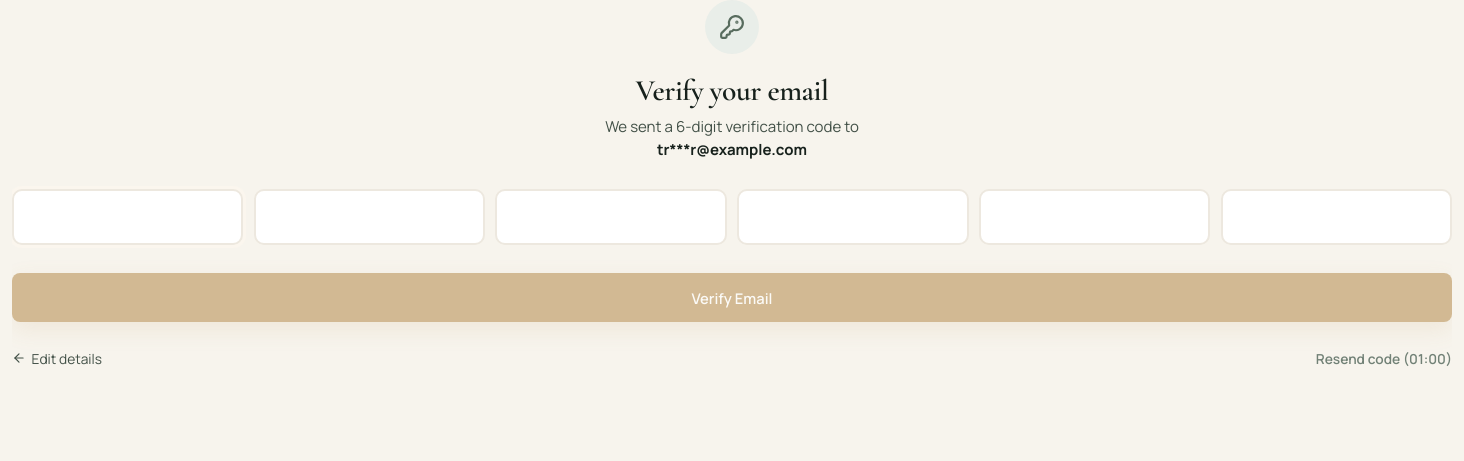
OtpVerification Component › shows error banner when API returns error
The image size is (1464, 461).
Type "1" into the field named "Digit 1 of 6" at (128, 217), box [12,189,243,245]
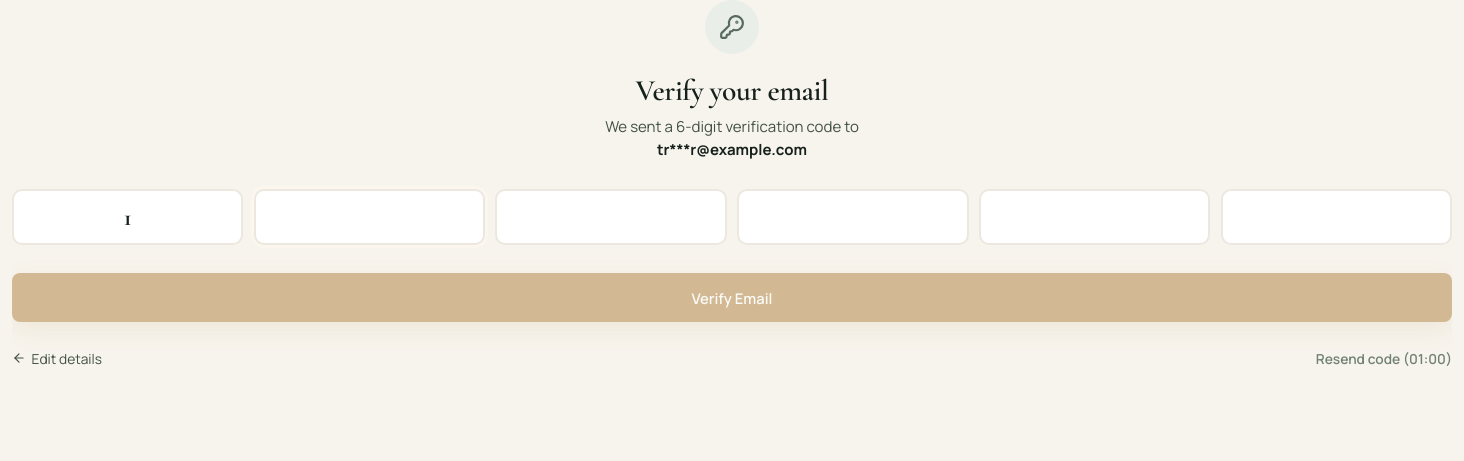
Type "2" into the field named "Digit 2 of 6" at (369, 217), box [254,189,485,245]
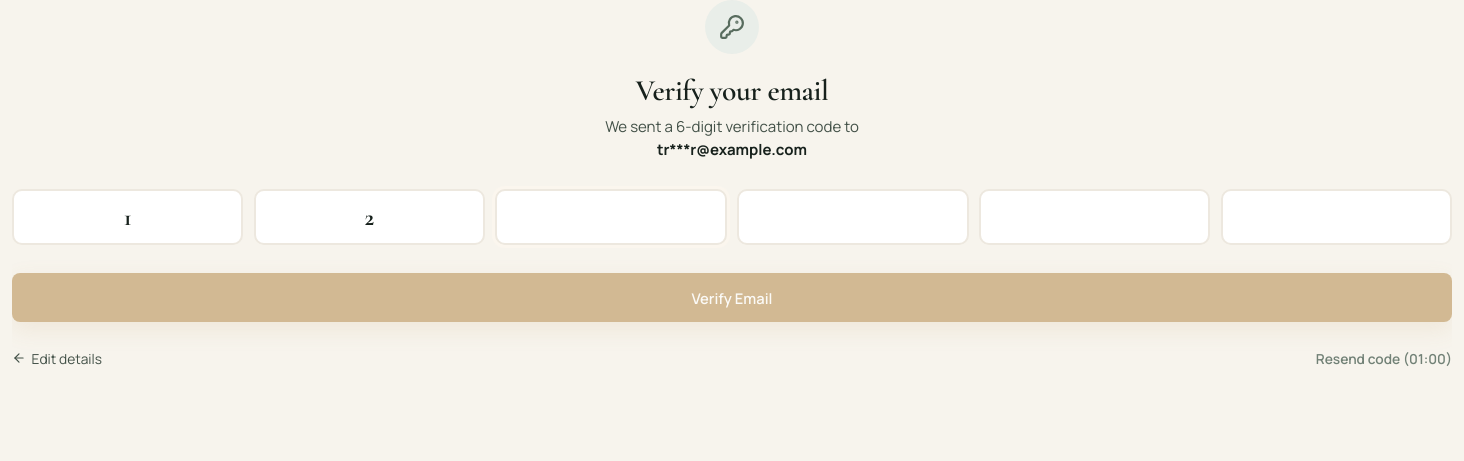
Type "3" into the field named "Digit 3 of 6" at (611, 217), box [496,189,727,245]
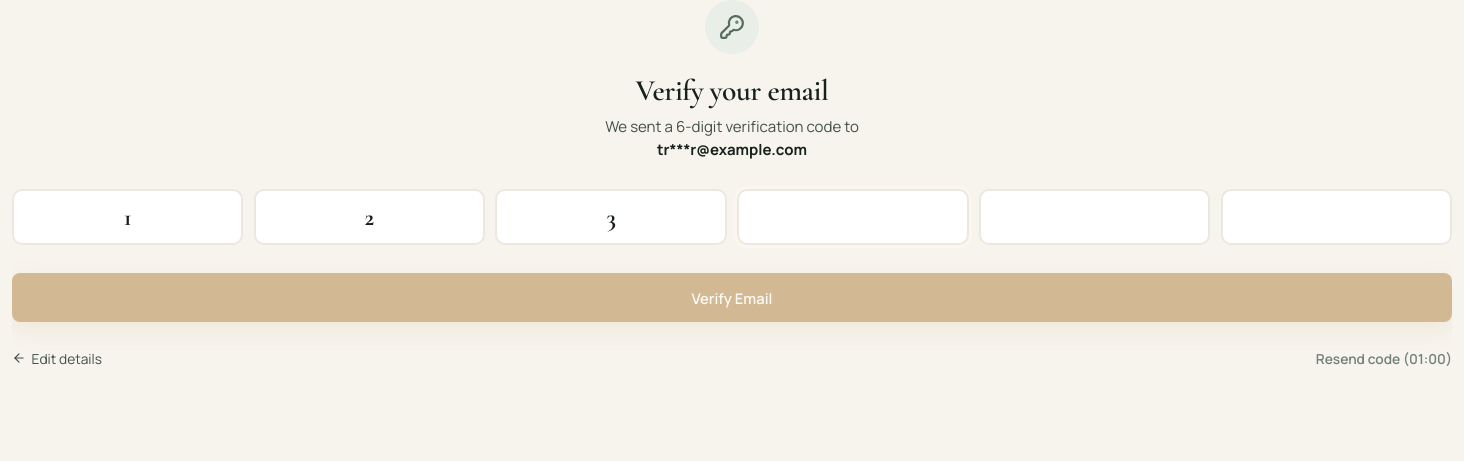
Type "4" into the field named "Digit 4 of 6" at (853, 217), box [737,189,968,245]
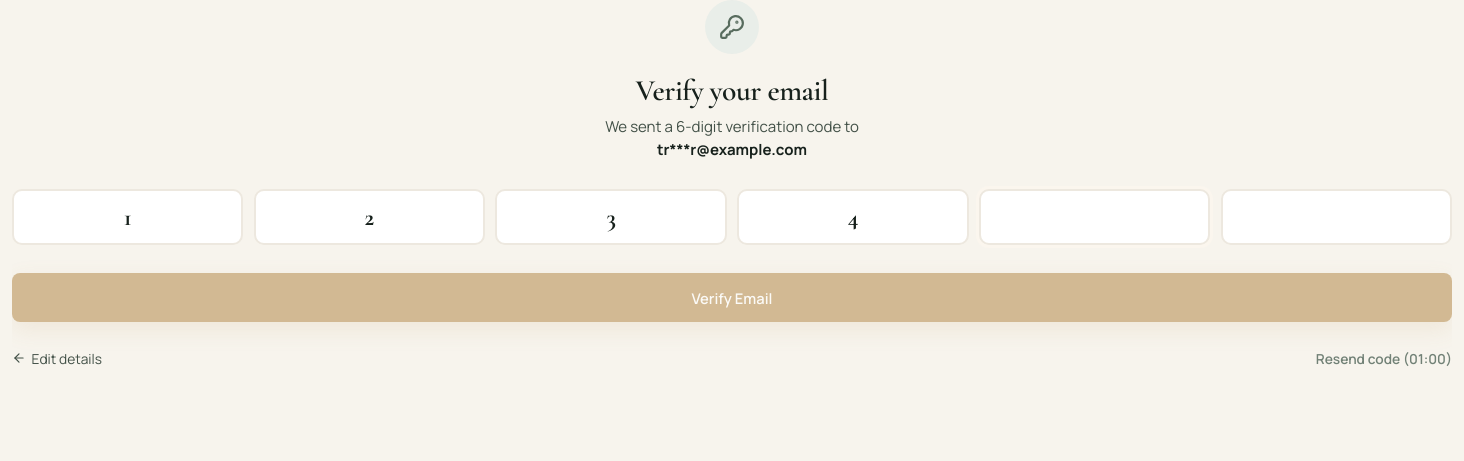
Type "5" into the field named "Digit 5 of 6" at (1095, 217), box [979,189,1210,245]
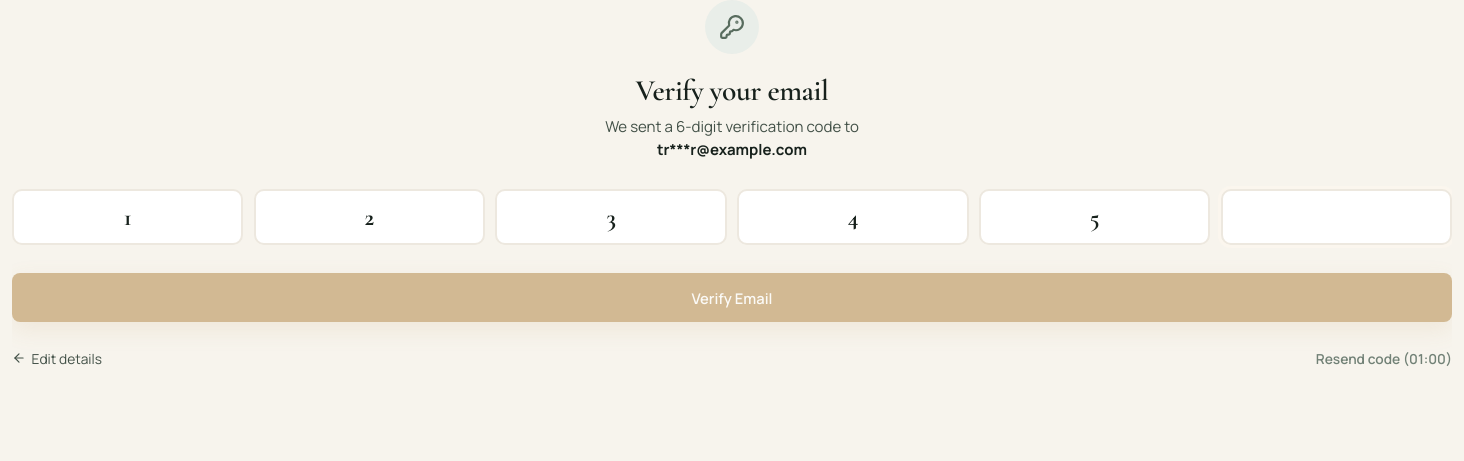
Type "6" into the field named "Digit 6 of 6" at (1336, 217), box [1221,189,1452,245]
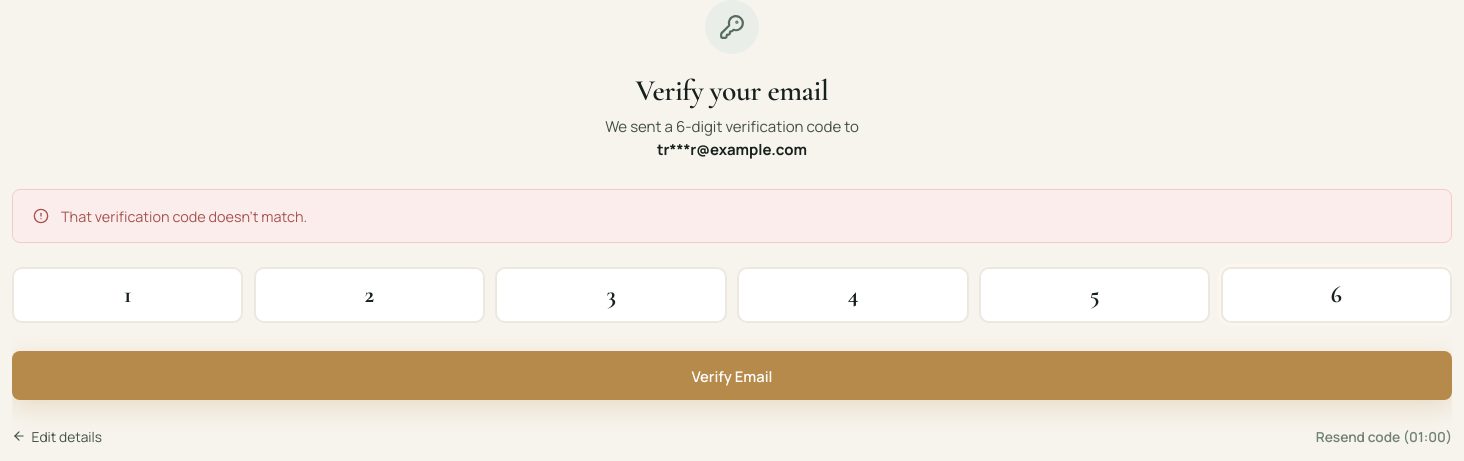
Check: the text "That verification code doesn't match." is shown, box [61,204,307,228]
